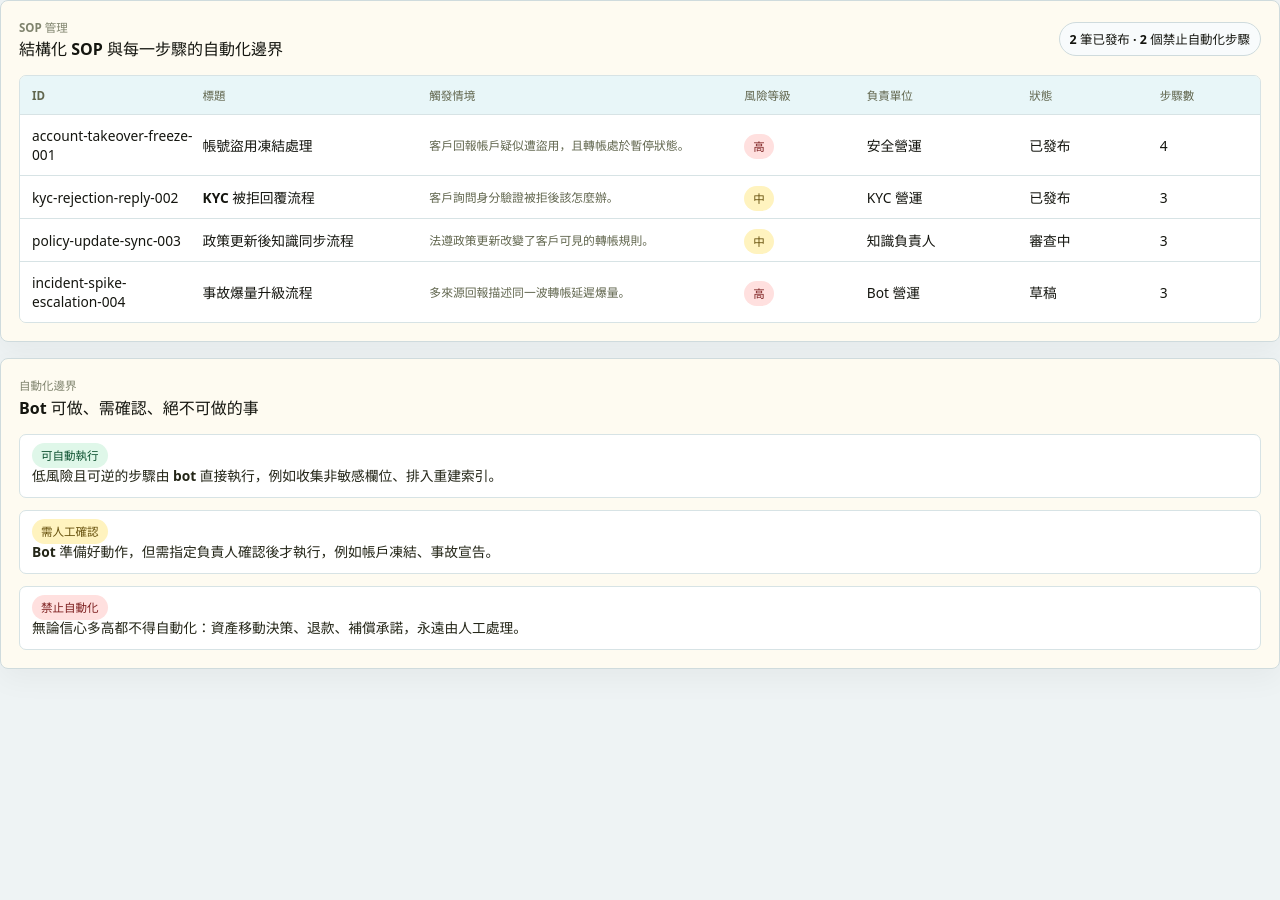
Test: SopManagement › renders zh-TW labels and translated SOP content
Expected: the text "帳號盜用凍結處理" is shown, x1=202 y1=136 x2=312 y2=156
Step 1. Click the button "帳號盜用凍結處理" → point(640, 146), box x1=20 y1=116 x2=1260 y2=176
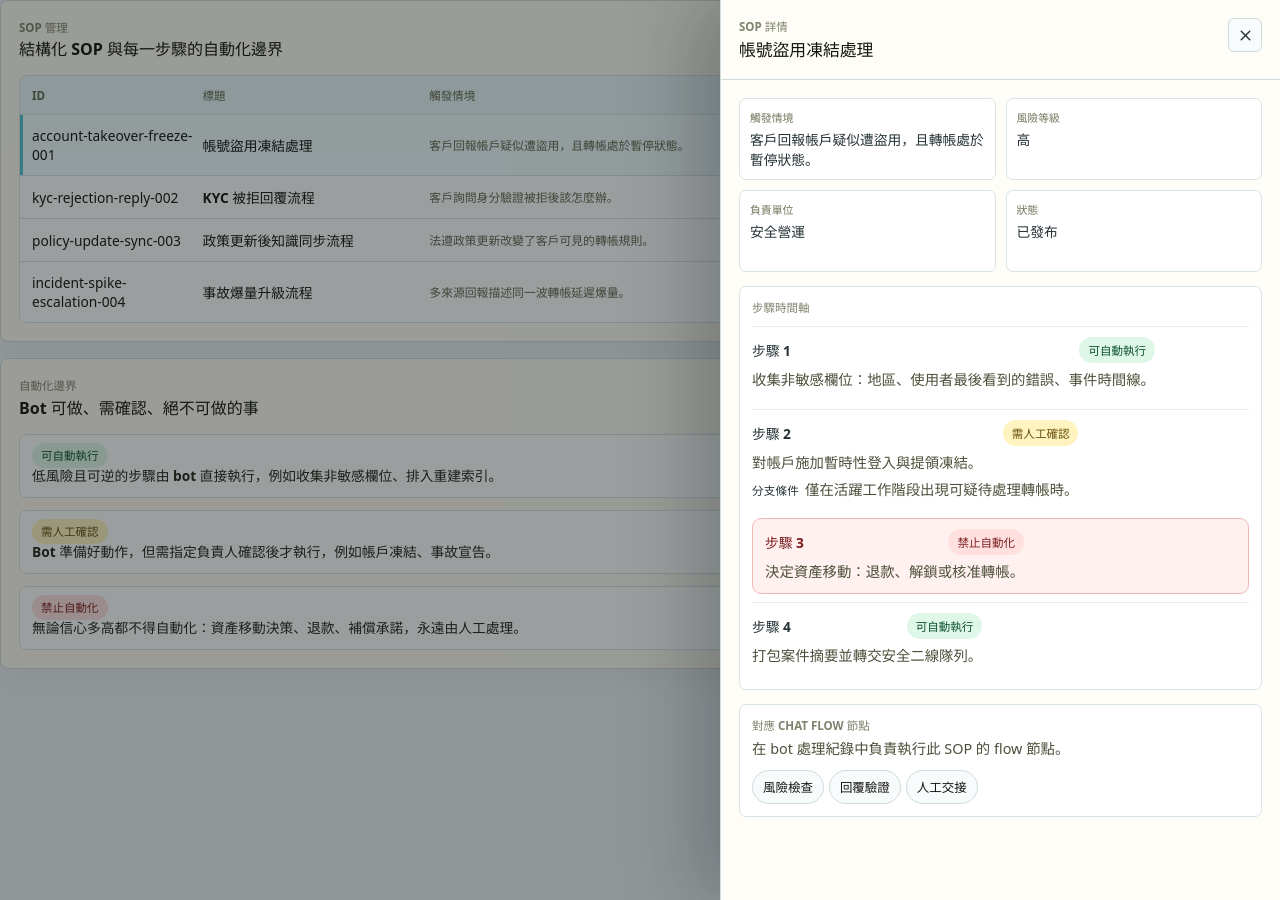
Expected: the list item with test id "sop-step-forbidden" shows "禁止自動化", x1=958 y1=536 x2=1015 y2=550
Expected: the text "決定資產移動：退款、解鎖或核准轉帳。" is shown, x1=765 y1=562 x2=1024 y2=583
